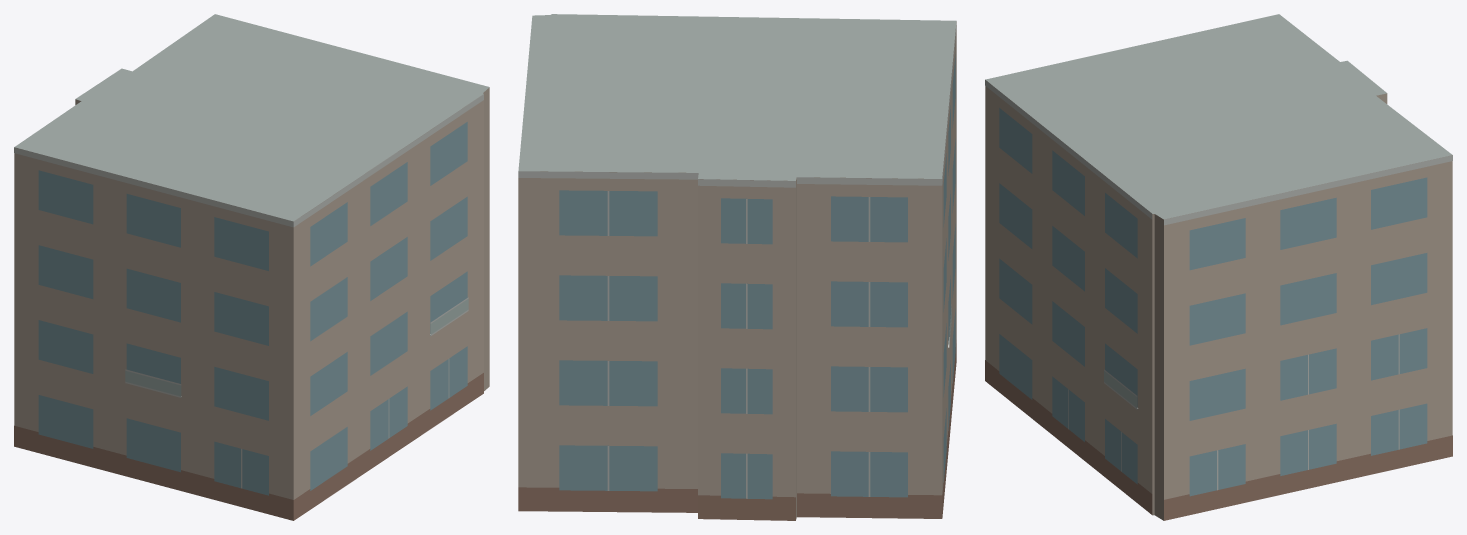
File: survey-upis-32886198.glb
3 renders of one model, left to right at view 1: azimuth 30°, elevation 25°; view 2: azimuth 150°, elevation 25°; view 3: azimuth 270°, elevation 25°, orthographic. The views are drawn at different scales.
Visible parts, largest first — view 1: survey-upis-32886198.tmp; view 2: survey-upis-32886198.tmp; view 3: survey-upis-32886198.tmp.
Boxes of the visible parts, <box> form: survey-upis-32886198.tmp: <box>14,14,489,520</box>; survey-upis-32886198.tmp: <box>518,14,956,520</box>; survey-upis-32886198.tmp: <box>985,14,1452,520</box>.
Size of the model in its own units: 17.92 by 12.25 by 17.23.
